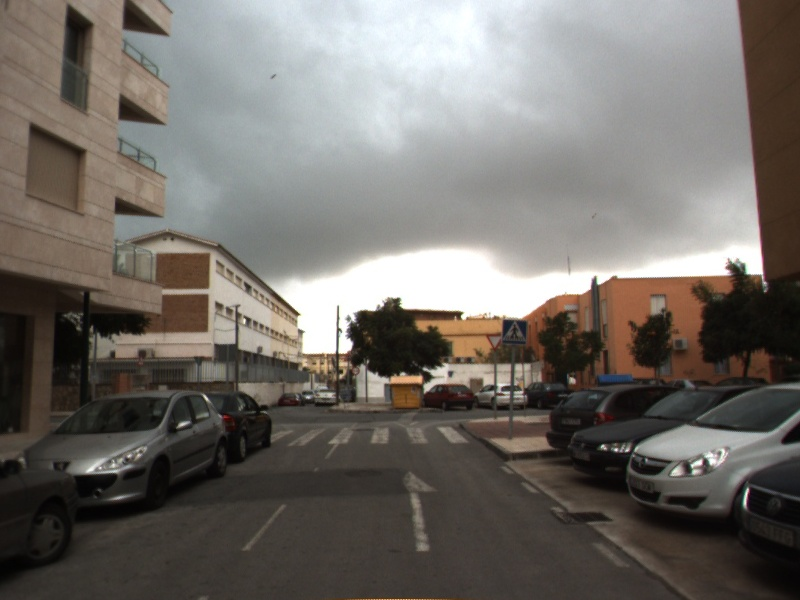STRAIGHT: (404, 469, 442, 554)
